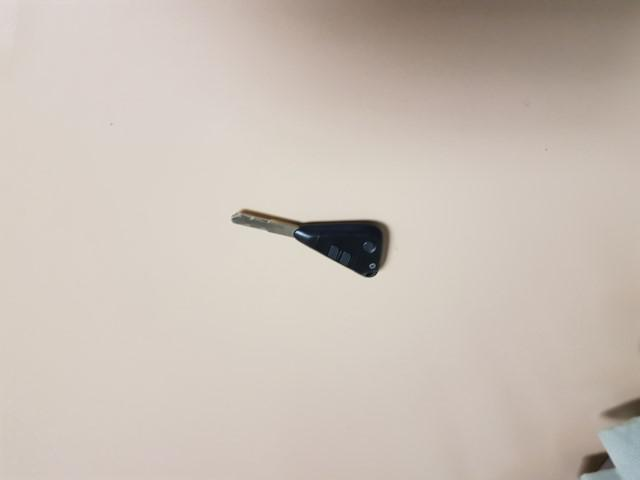key: (225, 207, 392, 282)
